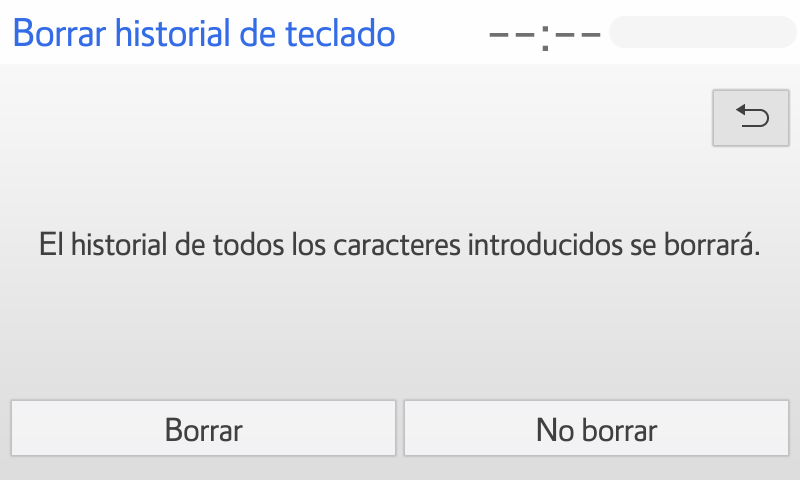touchPart: (5, 395, 399, 464), (403, 396, 792, 464), (705, 76, 800, 150)
untouchPart: (39, 214, 768, 271), (11, 12, 399, 57), (474, 9, 797, 52)
